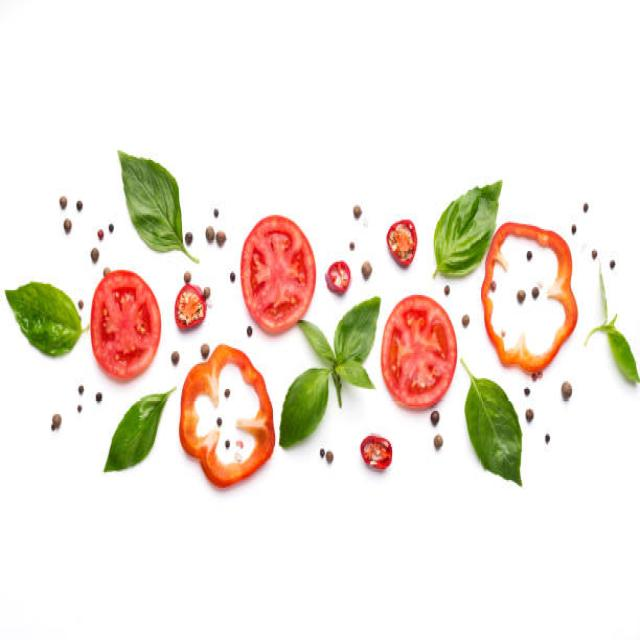Tomato: (221, 197, 348, 341), (357, 282, 483, 418), (85, 256, 159, 391)
